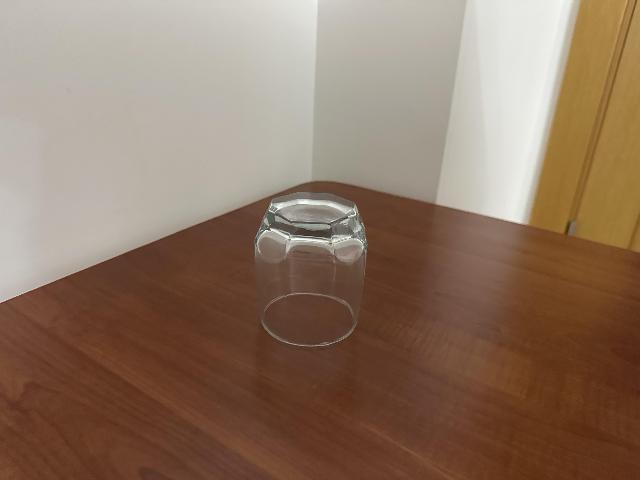Cam: (257, 190, 373, 348)
